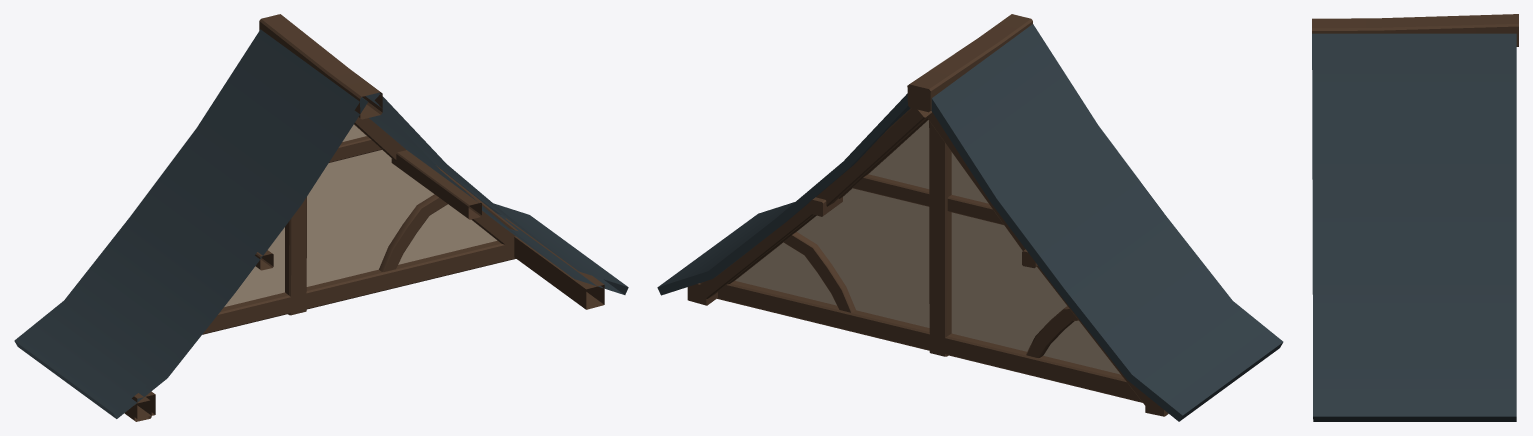
File: Roof5.fbx
3 views of the same model, side by side, from view 1: azimuth 30°, elevation 25°; view 2: azimuth 150°, elevation 25°; view 3: azimuth 270°, elevation 25° (orthographic). The views are drawn at different scales.
Parts seen in each view (by area): view 1: Cube.024; view 2: Cube.024; view 3: Cube.024.
Boxes of the visible parts, box(x1,y1,x2,y2) form: Cube.024: box(14, 14, 628, 421); Cube.024: box(657, 14, 1283, 421); Cube.024: box(1312, 14, 1518, 421).
Size of the model in its own units: 7.4 by 3.79 by 2.5.
